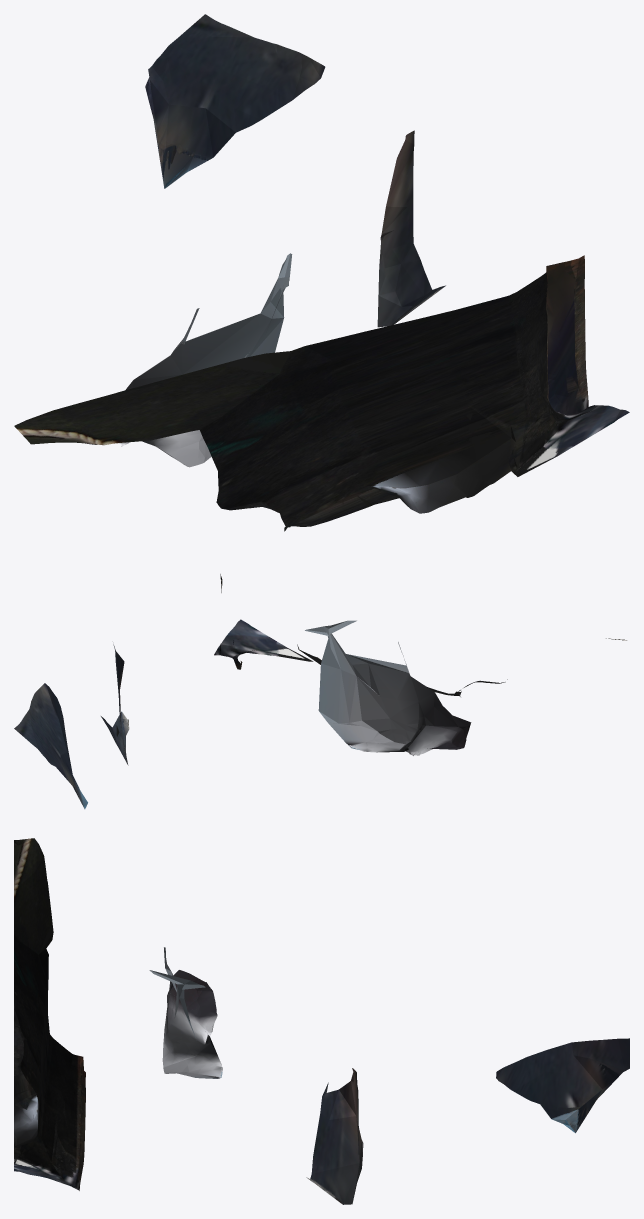
The picture shows the model from 3 angles, top to bottom: view 1: azimuth 30°, elevation 25°; view 2: azimuth 150°, elevation 25°; view 3: azimuth 270°, elevation 25°; orthographic projection. The views are drawn at different scales.
Bounding box in the file's own units: 3.76 × 1.1 × 4.18.
1 material, 1 textured.
